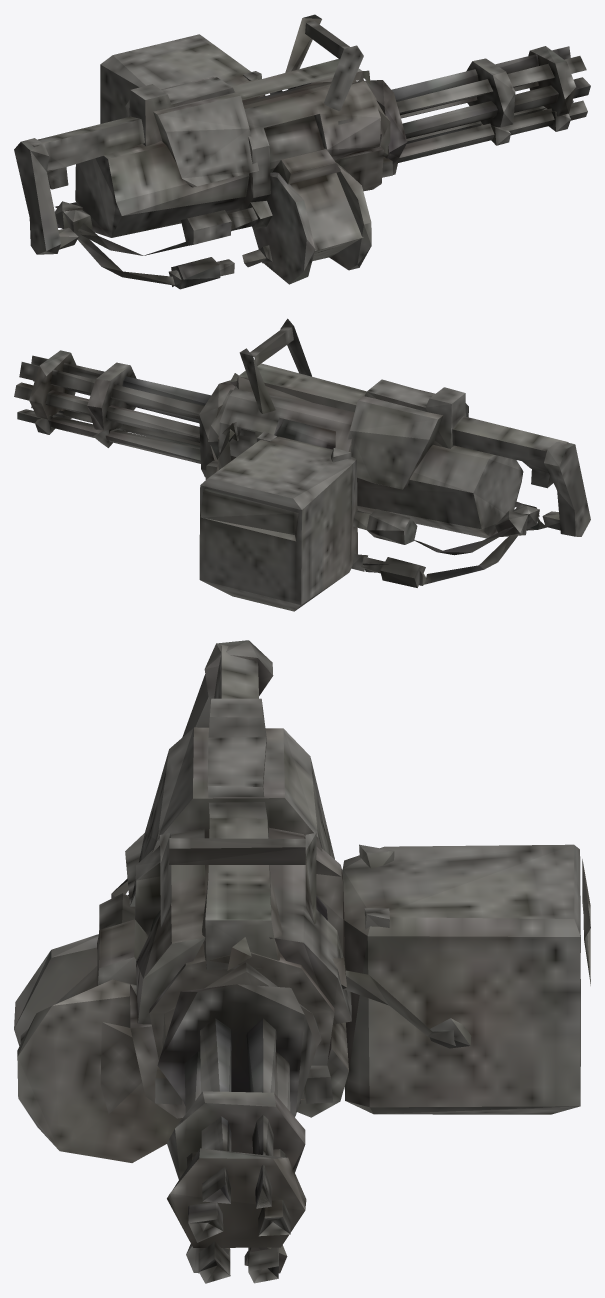
Rendered from prop.minigun.glb.
The picture shows the model from 3 angles, top to bottom: view 1: azimuth 30°, elevation 25°; view 2: azimuth 150°, elevation 25°; view 3: azimuth 270°, elevation 25°; orthographic projection. The views are drawn at different scales.
Visible parts, largest first — view 1: body; view 2: body; view 3: body.
Part boxes in pixels (x1=…): body: x1=14, y1=14, x2=590, y2=289; body: x1=14, y1=318, x2=590, y2=611; body: x1=14, y1=640, x2=590, y2=1283.
Bounding box in the file's own units: 0.65 × 0.2269 × 0.3384.
Materials: 1 (1 with a texture image).
